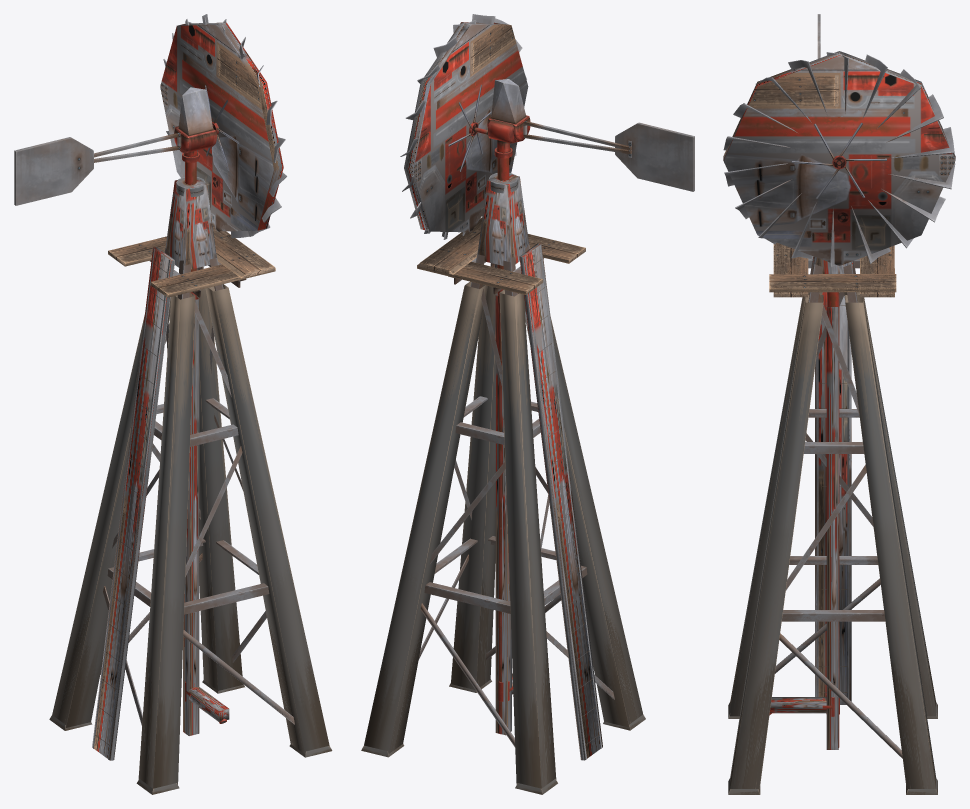
Rendered from windmill.FBX.
The picture shows the model from 3 angles, left to right: view 1: azimuth 30°, elevation 25°; view 2: azimuth 150°, elevation 25°; view 3: azimuth 270°, elevation 25°; orthographic projection.
Parts seen in each view (by area): view 1: windmill_tower_COL, windmill_bladeRotor_COL, windmill_tower, windmill_tail, windmill_gearBox, windmill_bladeRotor; view 2: windmill_tower_COL, windmill_bladeRotor_COL, windmill_tower, windmill_tail, windmill_gearBox, windmill_bladeRotor; view 3: windmill_tower_COL, windmill_bladeRotor_COL, windmill_tower, windmill_bladeRotor.
Part boxes in pixels (left/top/right/bottom): windmill_tower_COL: left=52, top=177, right=329, bottom=788; windmill_bladeRotor_COL: left=160, top=22, right=283, bottom=231; windmill_tower: left=49, top=162, right=332, bottom=794; windmill_tail: left=14, top=132, right=180, bottom=205; windmill_gearBox: left=174, top=87, right=216, bottom=162; windmill_bladeRotor: left=161, top=14, right=286, bottom=238; windmill_tower_COL: left=364, top=174, right=642, bottom=788; windmill_bladeRotor_COL: left=404, top=22, right=528, bottom=232; windmill_tower: left=361, top=158, right=645, bottom=794; windmill_tail: left=523, top=121, right=694, bottom=191; windmill_gearBox: left=474, top=79, right=530, bottom=158; windmill_bladeRotor: left=400, top=14, right=526, bottom=239; windmill_tower_COL: left=730, top=243, right=936, bottom=791; windmill_bladeRotor_COL: left=723, top=51, right=955, bottom=265; windmill_tower: left=728, top=243, right=937, bottom=794; windmill_bladeRotor: left=723, top=52, right=955, bottom=267.
Size of the model in its own units: 525 by 1289 by 380.
